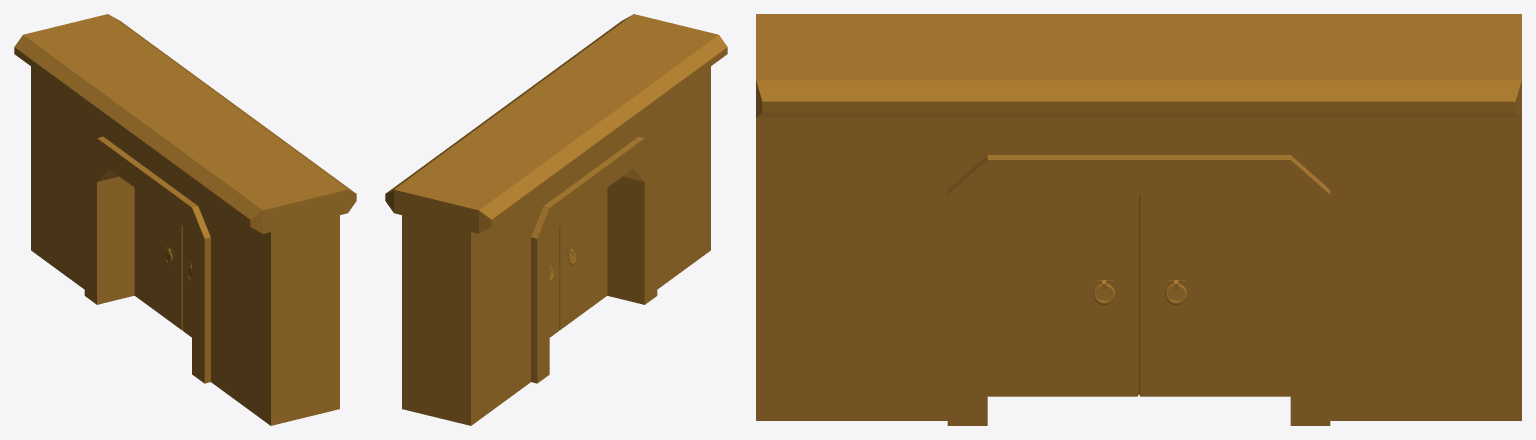
File: DoorWay.fbx
3 renders of one model, left to right at view 1: azimuth 30°, elevation 25°; view 2: azimuth 150°, elevation 25°; view 3: azimuth 270°, elevation 25°, orthographic. The views are drawn at different scales.
Parts seen in each view (by area): view 1: DoorWay; view 2: DoorWay; view 3: DoorWay.
Boxes of the visible parts, box(x1,y1,x2,y2) form: DoorWay: box(14, 14, 356, 425); DoorWay: box(385, 14, 727, 425); DoorWay: box(756, 14, 1521, 425).
Size of the model in its own units: 154 by 300 by 600.
